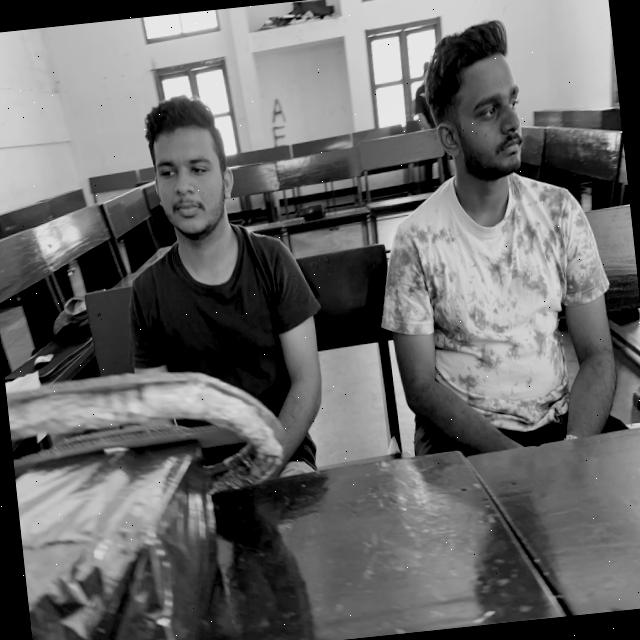Helmet: (367, 173, 624, 480), (120, 233, 340, 522)
